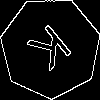K: (25, 23, 80, 79)
